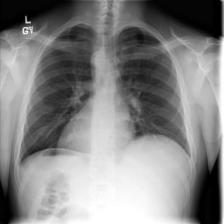normal: (15, 19, 193, 169)
